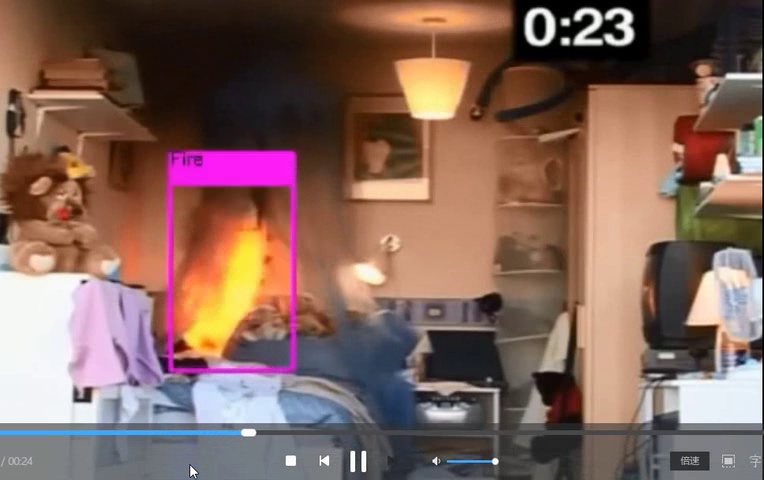fire: (167, 195, 275, 366)
